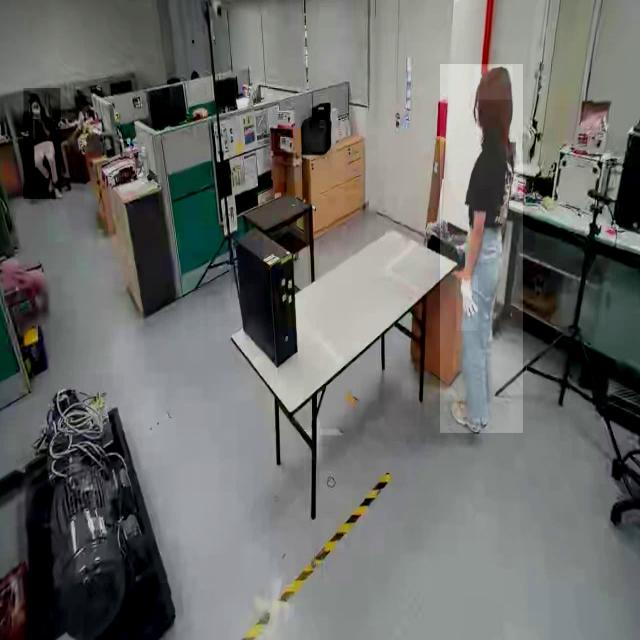face_mask: (29, 102, 41, 119)
hand_glove: (456, 276, 478, 332)
head_nohelmet: (474, 66, 512, 100), (29, 92, 41, 102)
person: (439, 64, 523, 434), (23, 88, 61, 200)
shoes: (449, 394, 482, 436)
